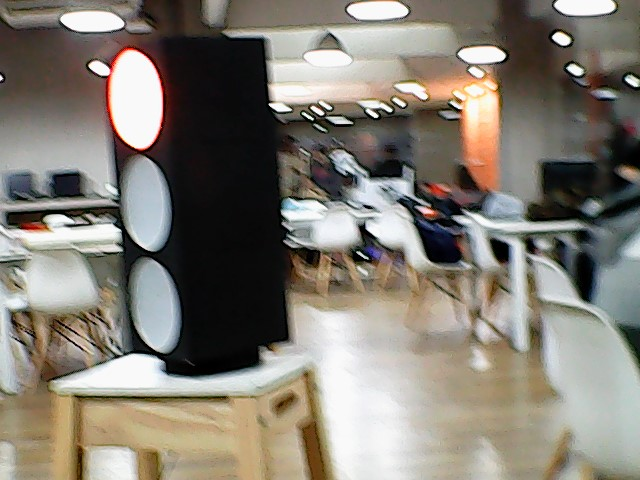vermelho: (101, 41, 300, 351)
